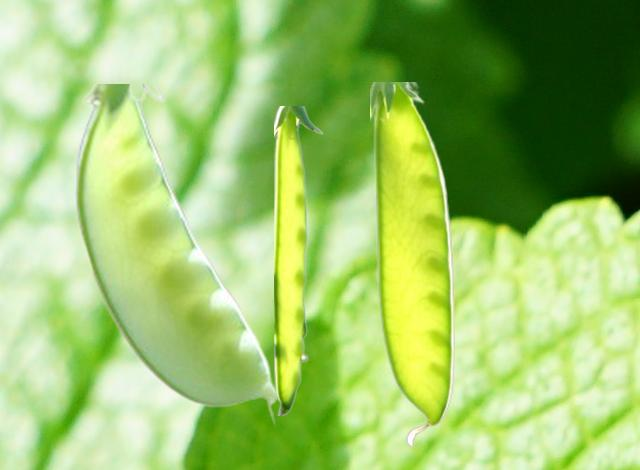pea: (73, 84, 275, 425), (370, 82, 453, 446), (274, 106, 322, 414)
